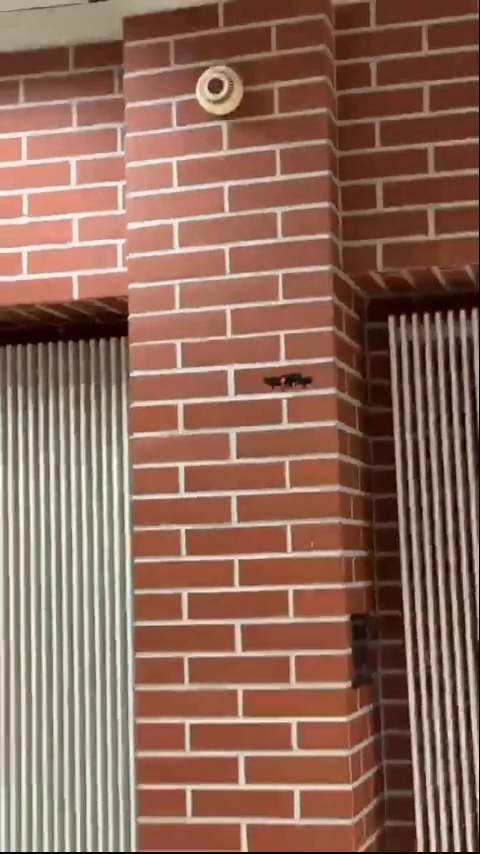drone: (261, 367, 318, 394)
